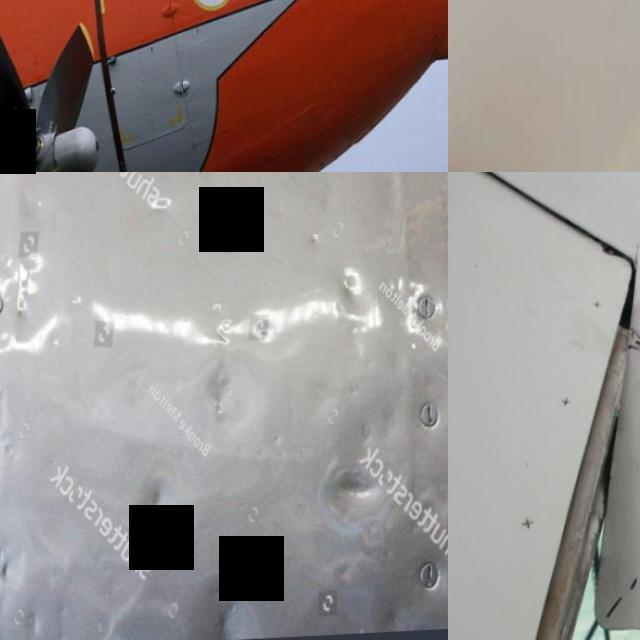Crack: (448, 69, 640, 172), (604, 522, 621, 548)
Dent: (141, 478, 171, 534), (323, 476, 379, 505)
